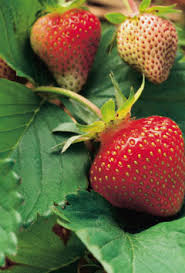ripe: (83, 107, 183, 218), (28, 6, 102, 97)
unripe: (113, 14, 179, 87)
